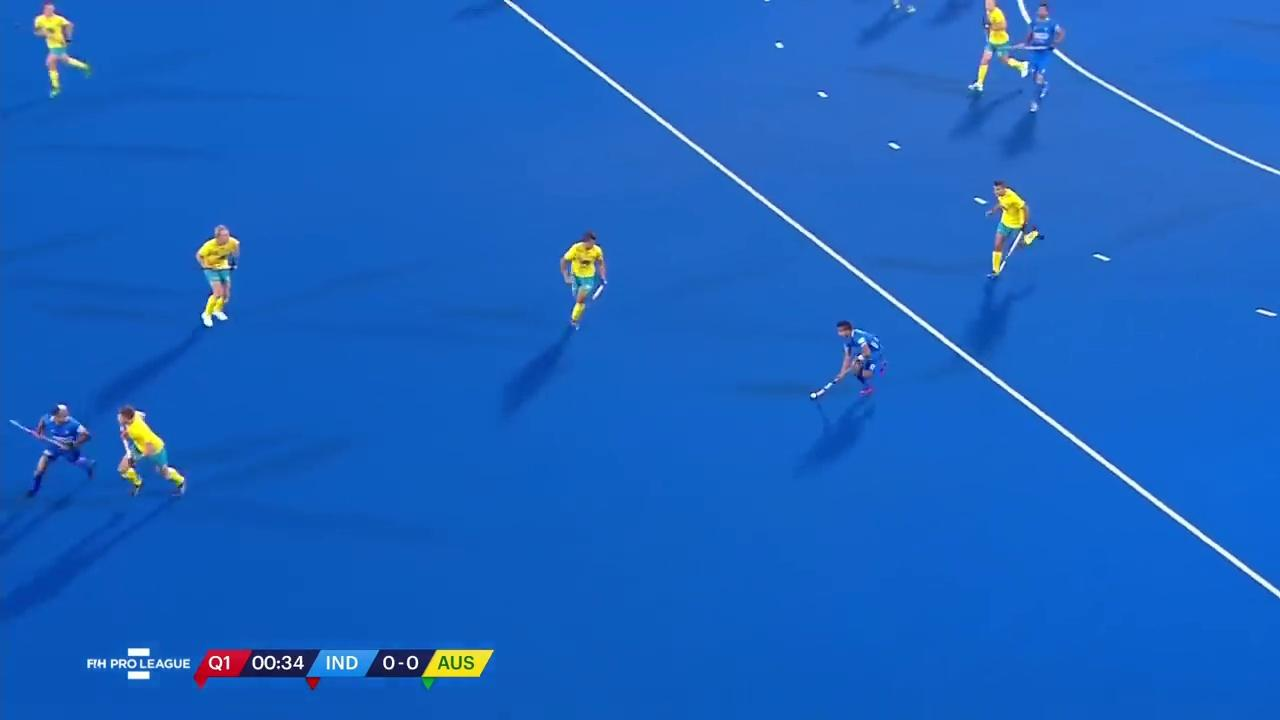ball: (802, 381, 823, 404)
